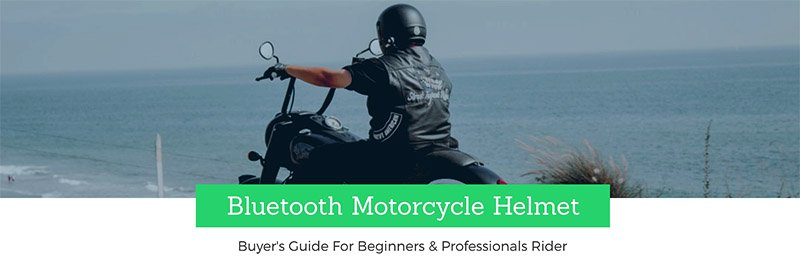with_helmet: (369, 1, 438, 59)
